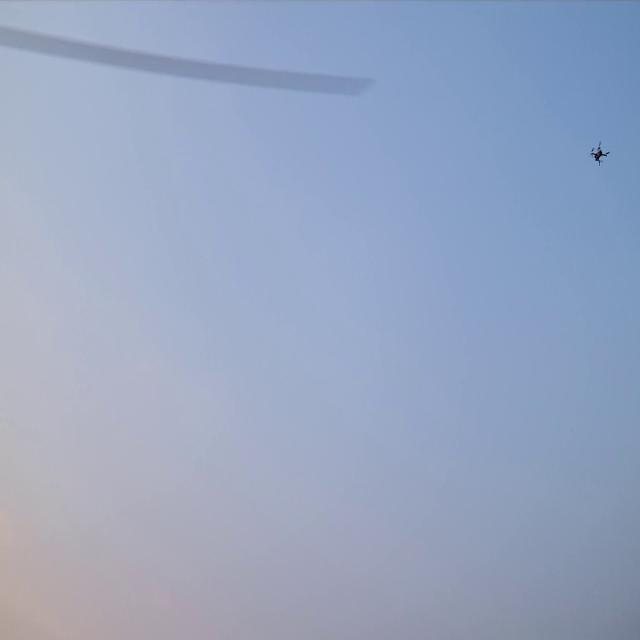UAV: (592, 144, 608, 163)
